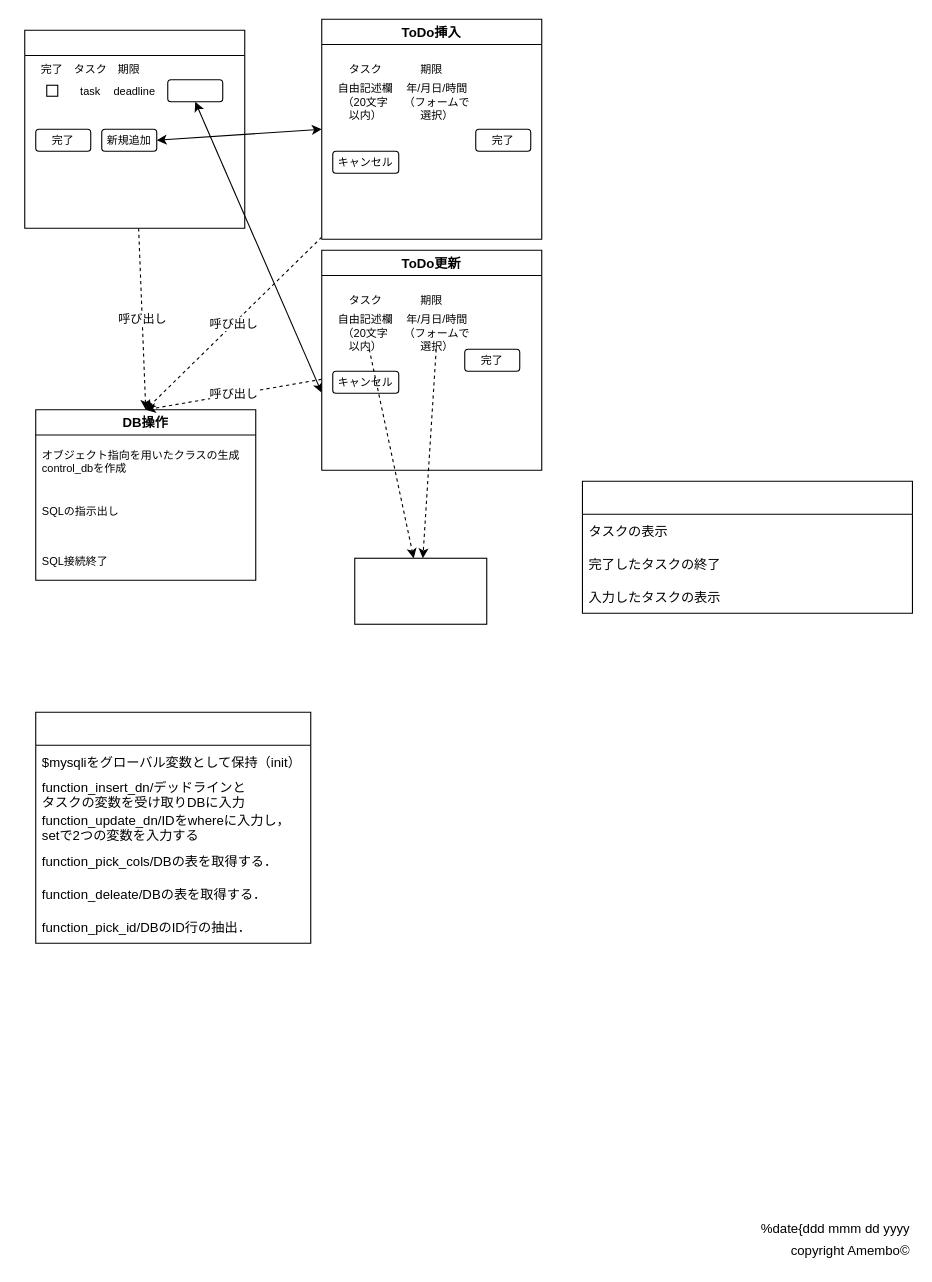
This 932x1282 diagram has some shape labels left out. Here are the shapes that lost their labels. From the top down, the box of each, then its label:
(167, 79, 223, 102): 更新
(24, 29, 245, 228): 表示
(581, 480, 912, 613): 動作
(354, 557, 487, 624): データベースから受け取ったデータを入力しておく
(35, 711, 311, 943): control＿db
